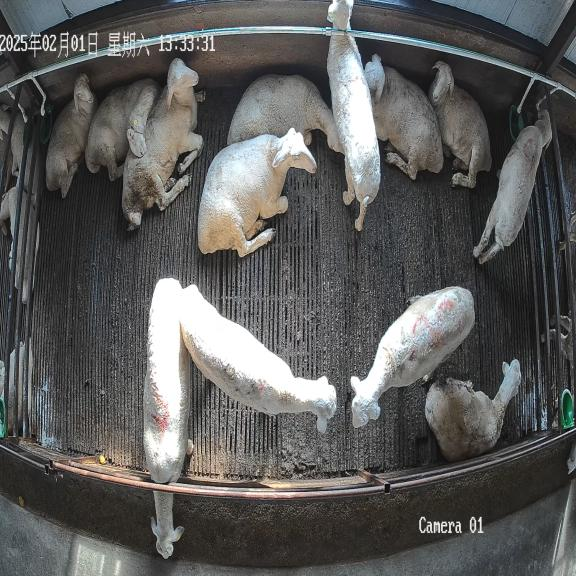drinking: (473, 110, 552, 264)
eating: (144, 278, 193, 558)
lying: (198, 128, 316, 257), (122, 58, 203, 230), (364, 54, 443, 179), (425, 360, 521, 461), (227, 74, 342, 151), (428, 61, 491, 187), (85, 79, 160, 180), (46, 73, 97, 197)
stand: (180, 285, 336, 432), (350, 286, 475, 428), (327, 0, 380, 231)
